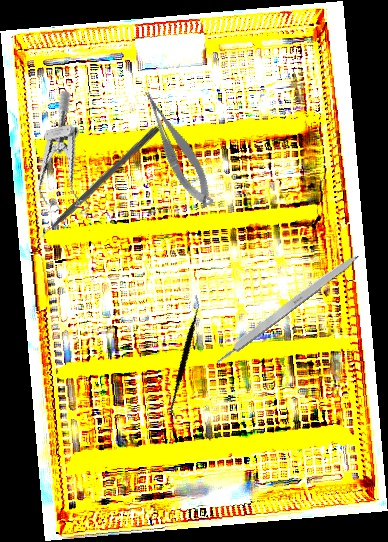Micro Scissor: (139, 83, 218, 214)
Pusher: (29, 123, 161, 248)
Scalpel Handle: (212, 249, 361, 367)
Spatula Surgical: (137, 293, 235, 421)
Speculum: (15, 88, 101, 229)
